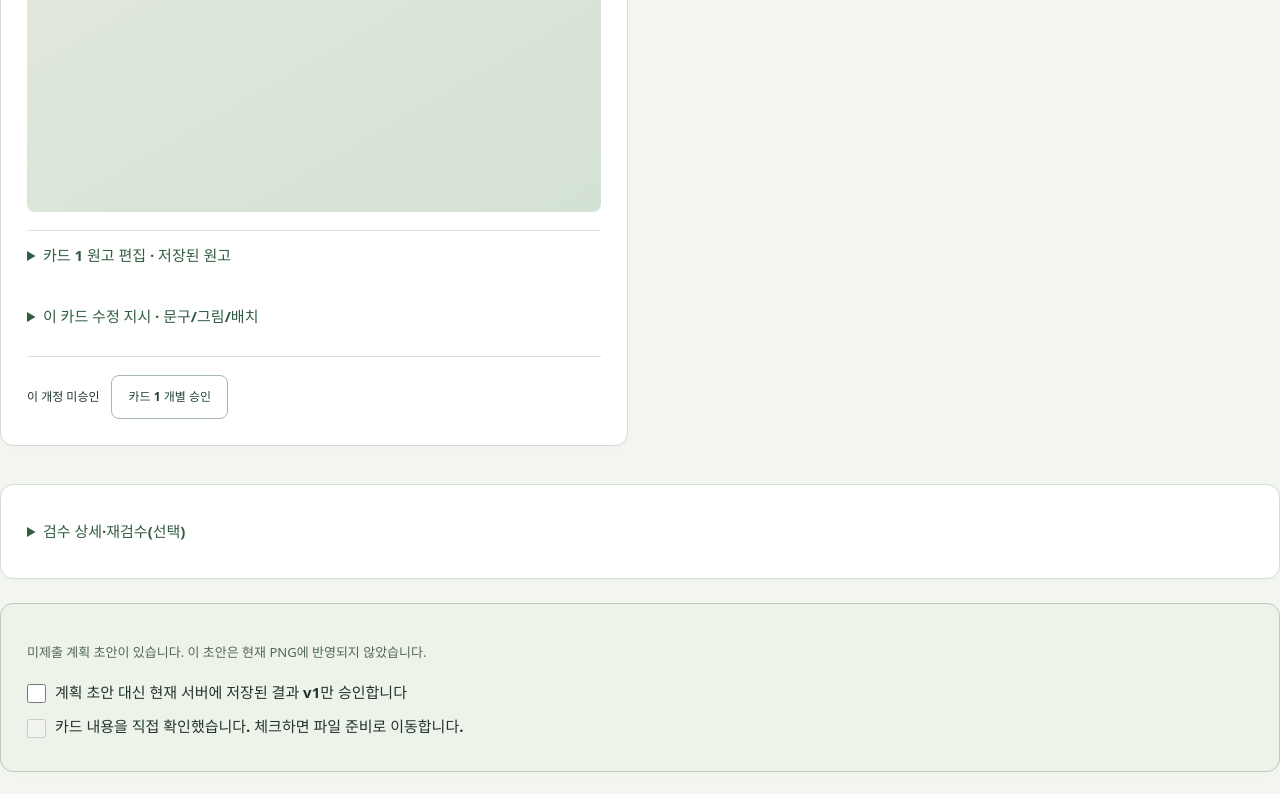
Test case: 복원된 계획 초안을 명시적으로 제외하기 전에는 현재 저장 결과도 승인하지 않는다
(page scrolled)
Expected: the checkbox labelled "카드 내용을 직접 확인했습니다. 체크하면 파일 준비로 이동합니다." is disabled, [27,719,46,738]
Click the checkbox labelled "계획 초안 대신 현재 서버에 저장된 결과 v1만 승인합니다" at (36, 693), box [27,684,46,703]
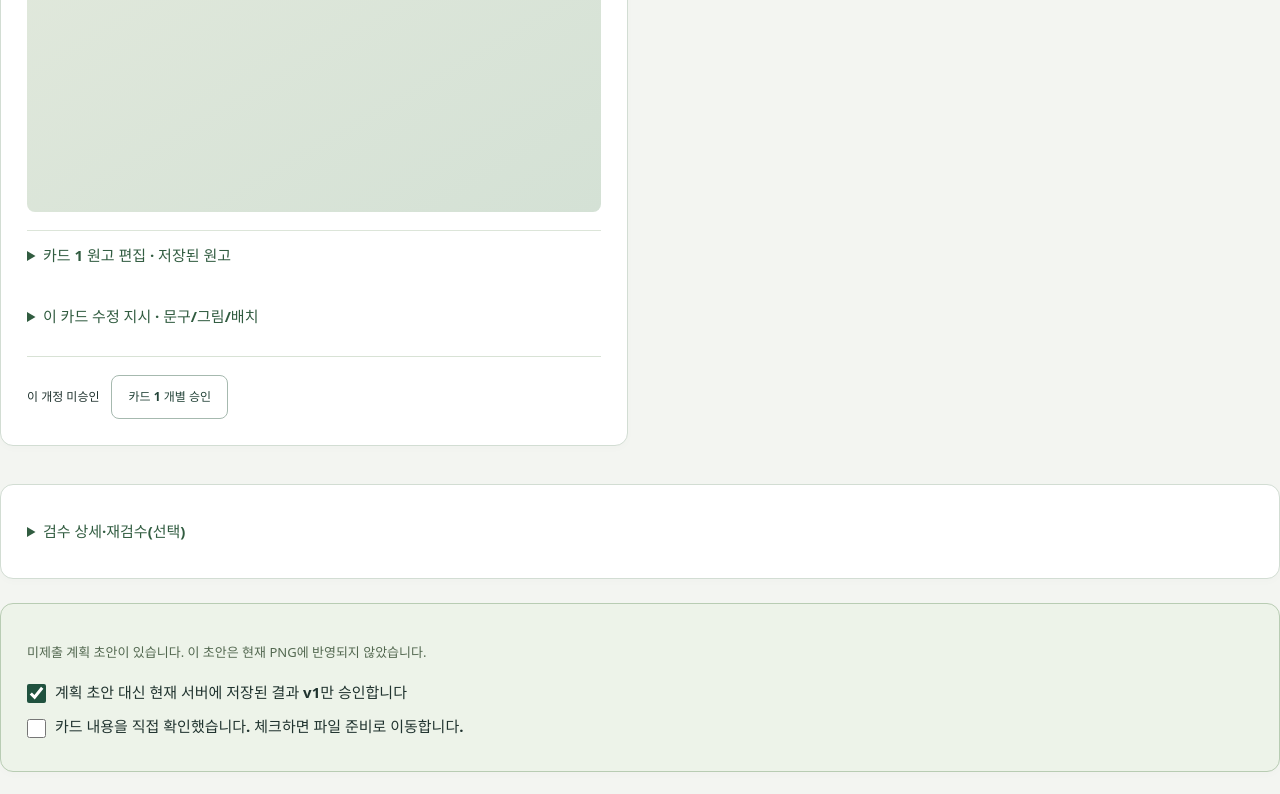
Expected: the checkbox labelled "카드 내용을 직접 확인했습니다. 체크하면 파일 준비로 이동합니다." is enabled, [27,719,46,738]
